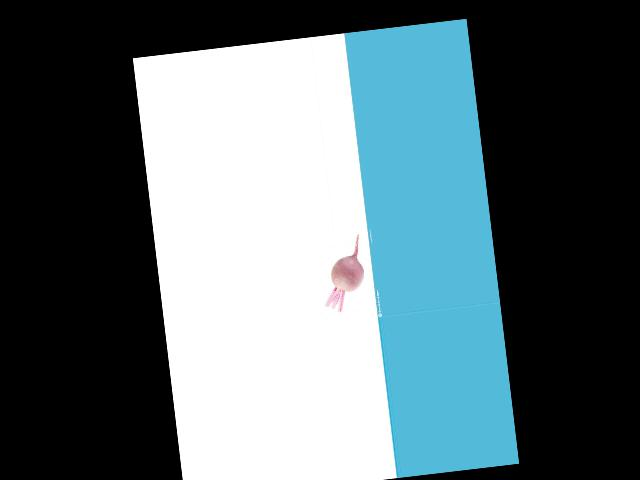beet: (318, 234, 367, 313)
